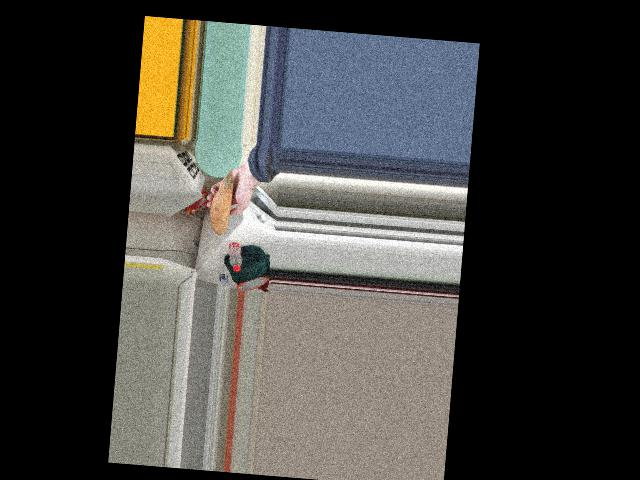sweet_potato: (208, 172, 234, 229)
